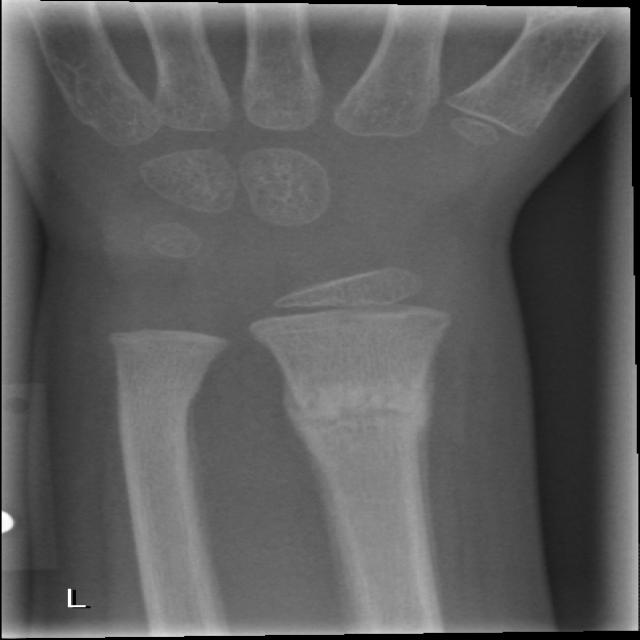radius fracture: (256, 332, 488, 568)
ulna fracture: (122, 345, 245, 521)
